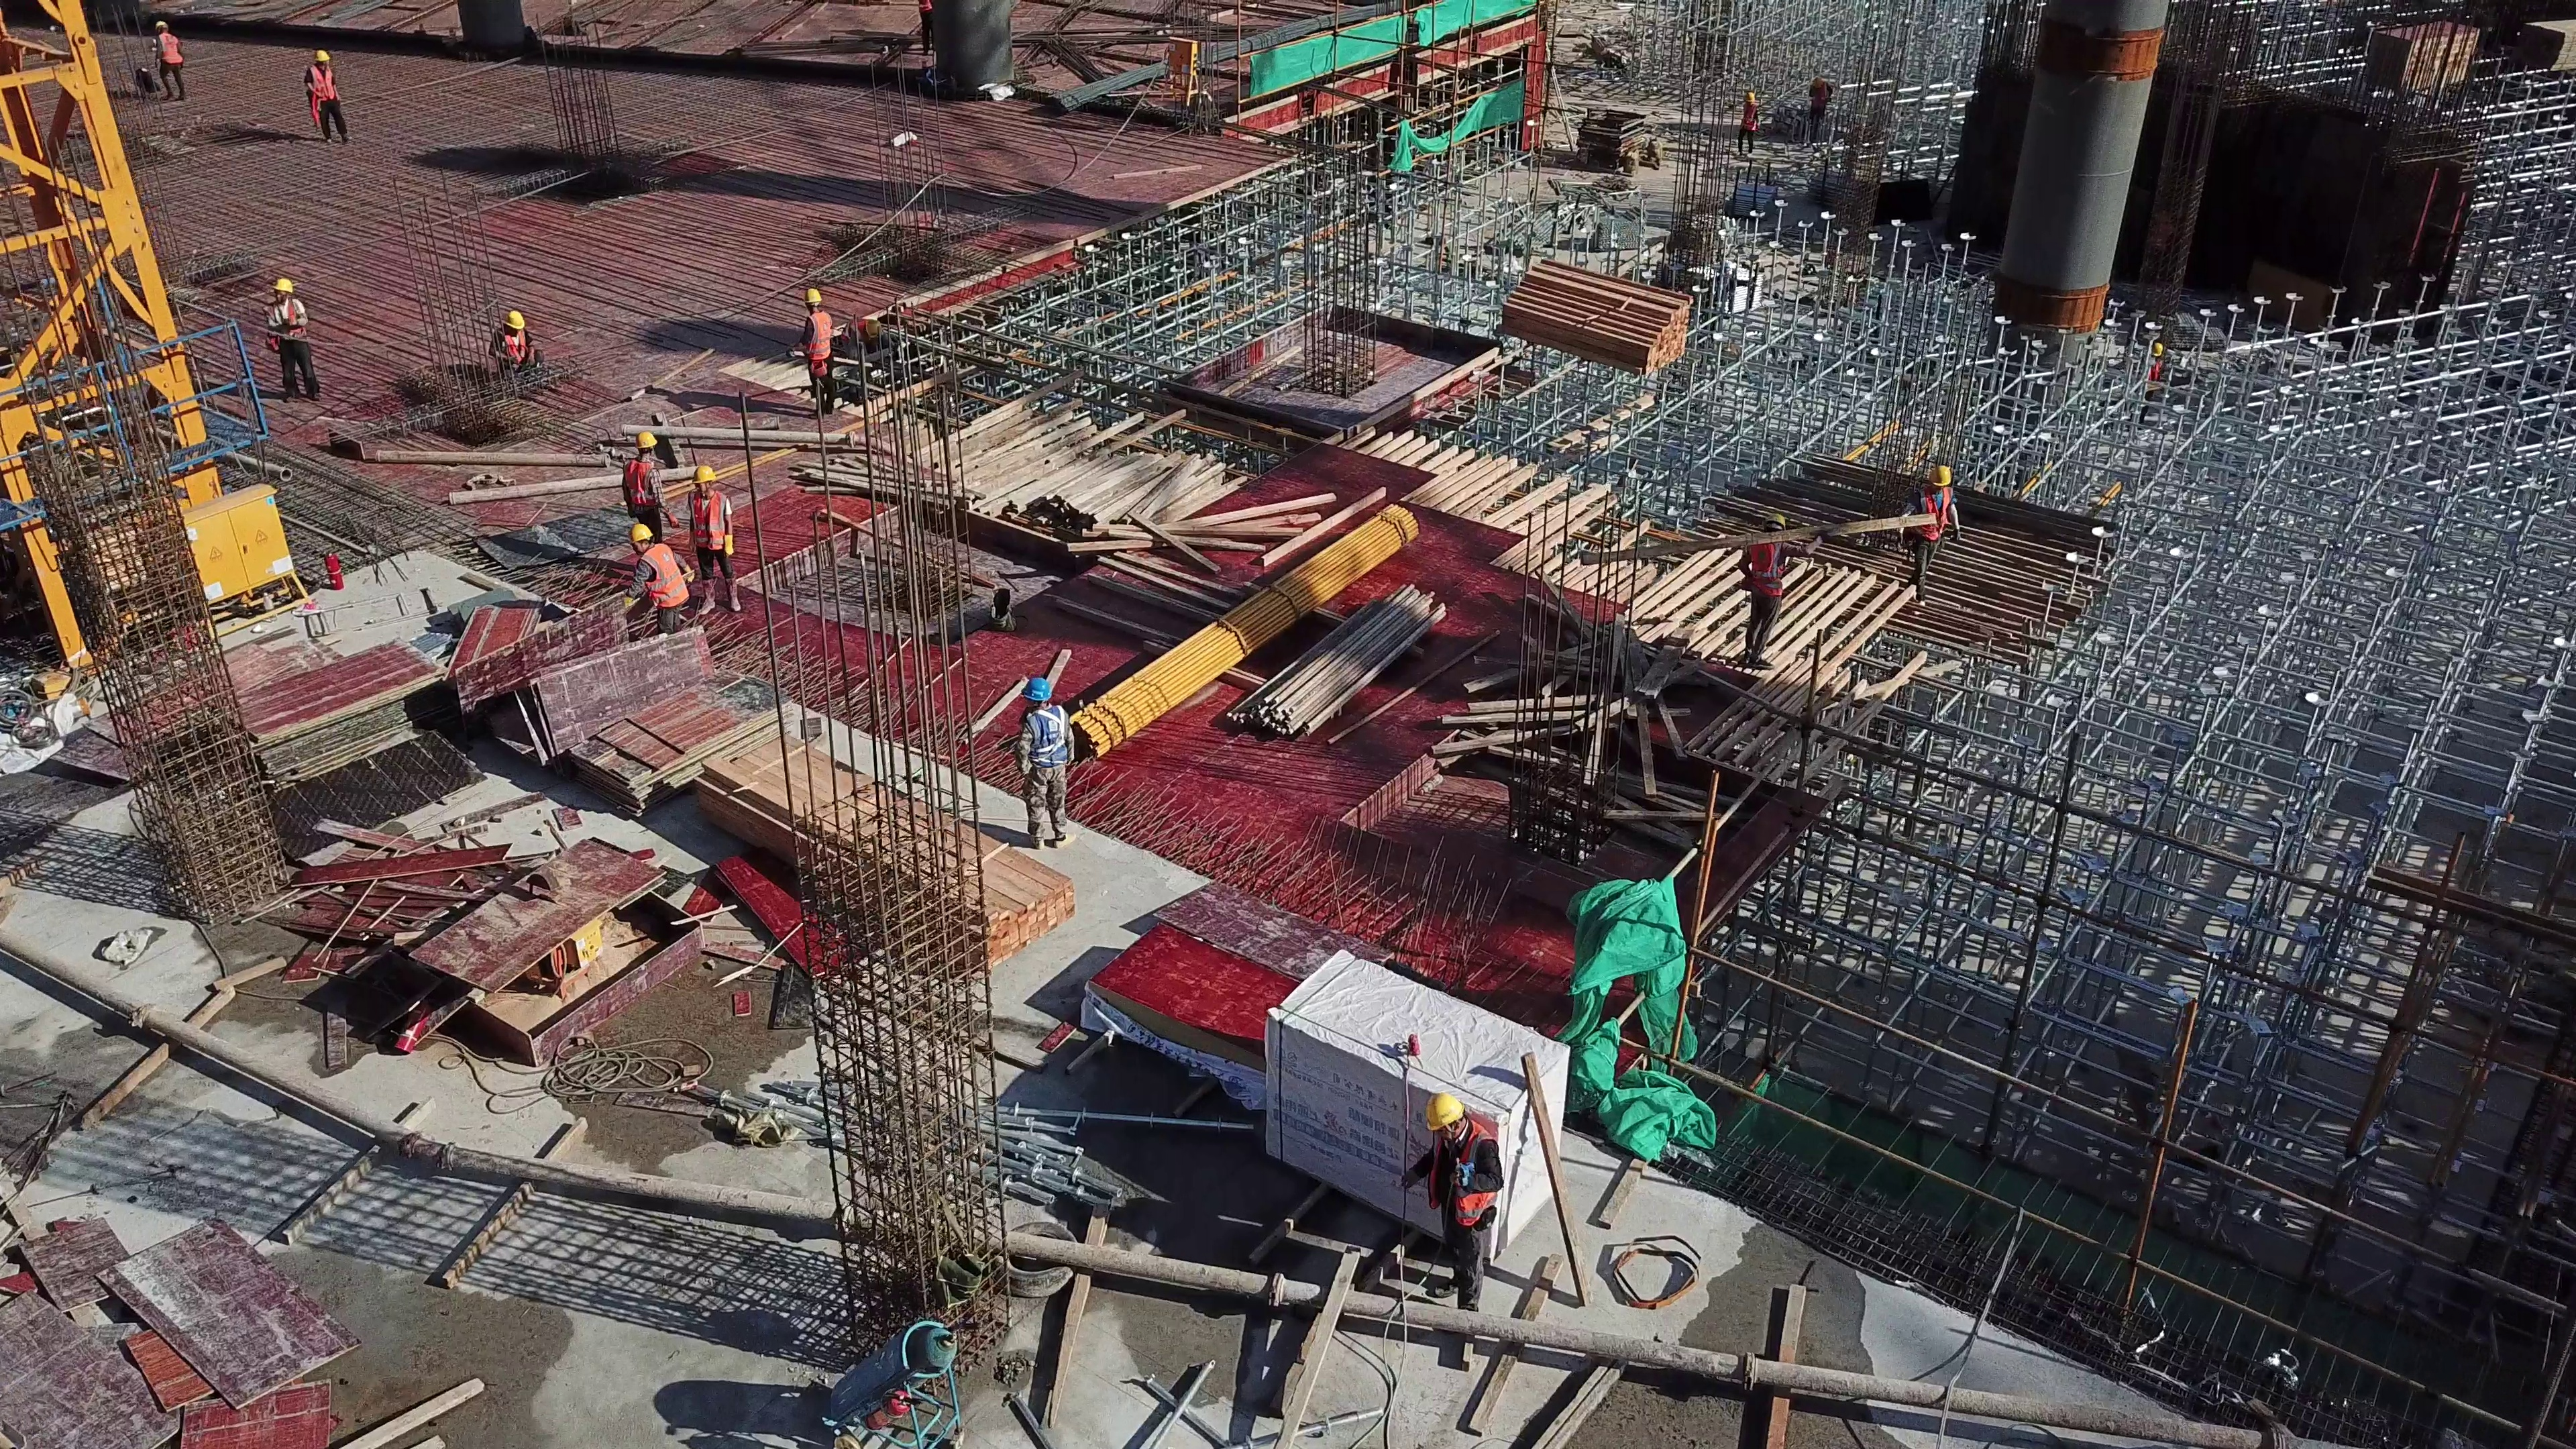board: (573, 662, 790, 806), (1087, 916, 1274, 1087), (229, 639, 436, 780)
ebox: (181, 482, 312, 610)
helmet: (1424, 1091, 1465, 1132), (1022, 677, 1052, 705), (1929, 464, 1953, 486), (628, 523, 653, 543), (692, 464, 716, 484), (504, 309, 526, 330), (635, 431, 657, 449), (1763, 515, 1787, 531), (802, 287, 821, 304), (865, 318, 881, 337), (272, 279, 294, 292)
person: (1397, 1091, 1505, 1315), (1006, 674, 1085, 855), (1733, 506, 1802, 678), (683, 464, 750, 618), (1896, 459, 1962, 606), (616, 425, 679, 541), (624, 527, 688, 639), (266, 278, 321, 402), (790, 287, 837, 419), (303, 50, 350, 142), (148, 17, 192, 104), (484, 305, 543, 370), (2132, 339, 2172, 425), (837, 307, 896, 360), (1805, 74, 1833, 144), (1735, 89, 1759, 154), (312, 50, 330, 62)
vest: (1428, 1122, 1499, 1228), (1021, 705, 1070, 768), (642, 542, 685, 610), (688, 489, 732, 551), (623, 456, 663, 513), (1915, 487, 1957, 542), (1748, 541, 1787, 597), (270, 295, 308, 341), (490, 329, 533, 365), (807, 310, 834, 364), (308, 63, 340, 101), (156, 34, 185, 64)
wood: (1501, 256, 1689, 376), (1003, 453, 1224, 541), (977, 822, 1077, 961)
